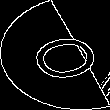O_E: (10, 26, 100, 84)
